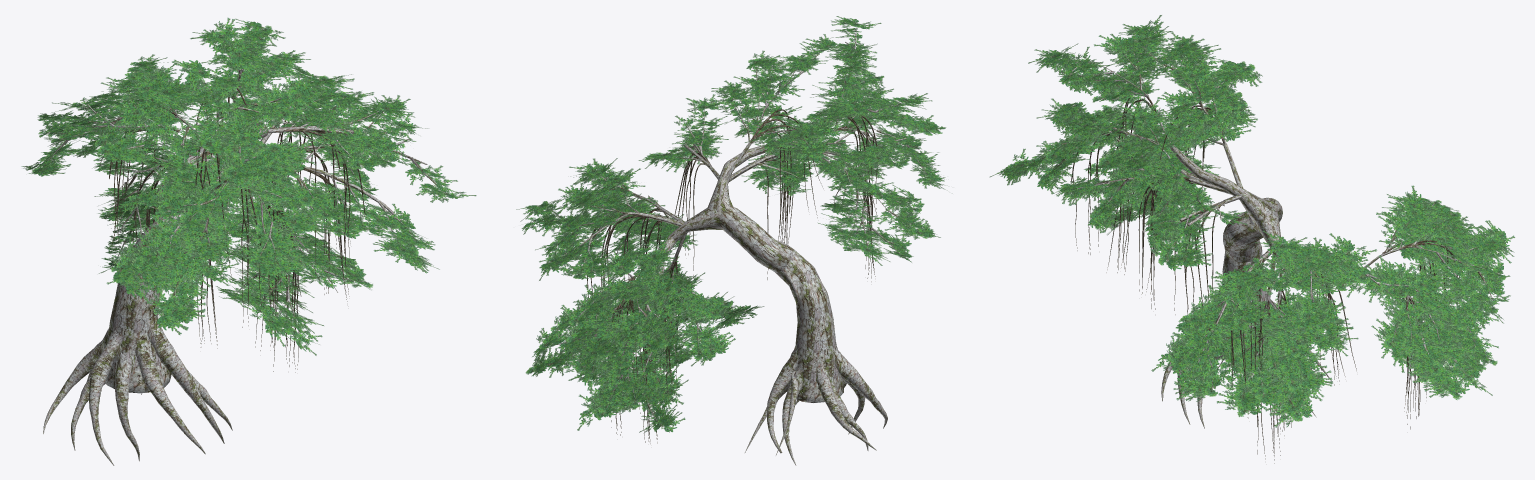
The model's file is Big_tree_01_C_001.glb.
3 renders of one model, left to right at view 1: azimuth 30°, elevation 25°; view 2: azimuth 150°, elevation 25°; view 3: azimuth 270°, elevation 25°, orthographic. The views are drawn at different scales.
Visible parts, largest first — view 1: Big_tree_01_C.001; view 2: Big_tree_01_C.001; view 3: Big_tree_01_C.001.
Boxes of the visible parts, box(x1,y1,x2,y2) form: Big_tree_01_C.001: box(21, 17, 476, 465); Big_tree_01_C.001: box(516, 16, 945, 465); Big_tree_01_C.001: box(989, 15, 1514, 463).
Size of the model in its own units: 16.71 by 16.58 by 20.57.
3 materials, 3 textured.
